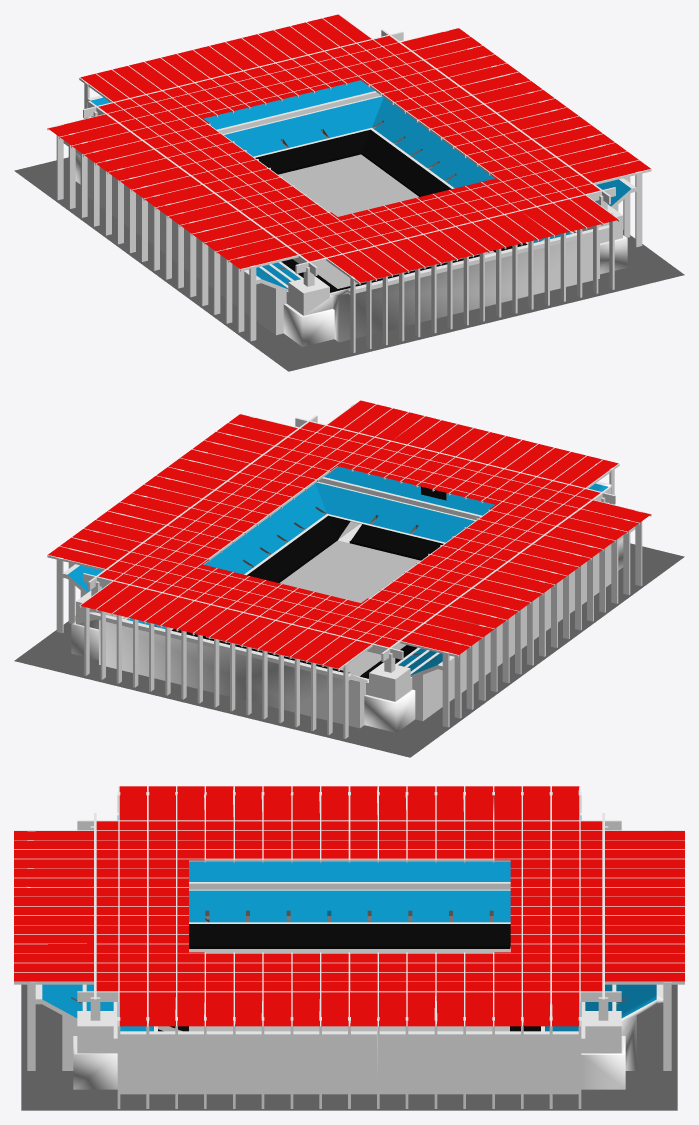
The model's file is Rectangle Arena.fbx.
3 views of the same model, one above another, from view 1: azimuth 30°, elevation 25°; view 2: azimuth 150°, elevation 25°; view 3: azimuth 270°, elevation 25° (orthographic). The views are drawn at different scales.
Parts seen in each view (by area): view 1: Rectangle Arena; view 2: Rectangle Arena; view 3: Rectangle Arena.
Part boxes in pixels (left/top/right/bottom): Rectangle Arena: left=14, top=14, right=684, bottom=371; Rectangle Arena: left=14, top=400, right=684, bottom=757; Rectangle Arena: left=14, top=786, right=684, bottom=1110.
Bounding box in the file's own units: 8299 × 1432 × 9810.
